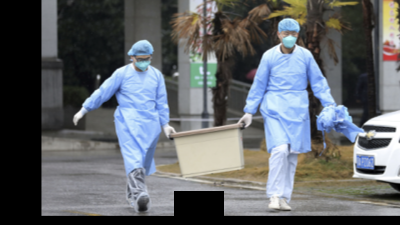with_mask: (280, 30, 297, 48), (133, 56, 151, 71)
